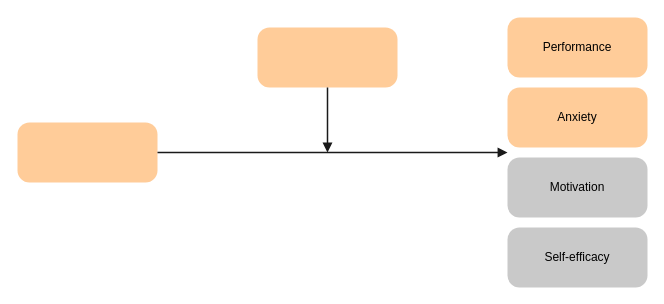
Image size: 664x304. Some labels were removed from this diagram. The centre of each missing label's shape, as x and y in pixels:
Gamified Elements: the point at 87,152
Gender: the point at 327,57
